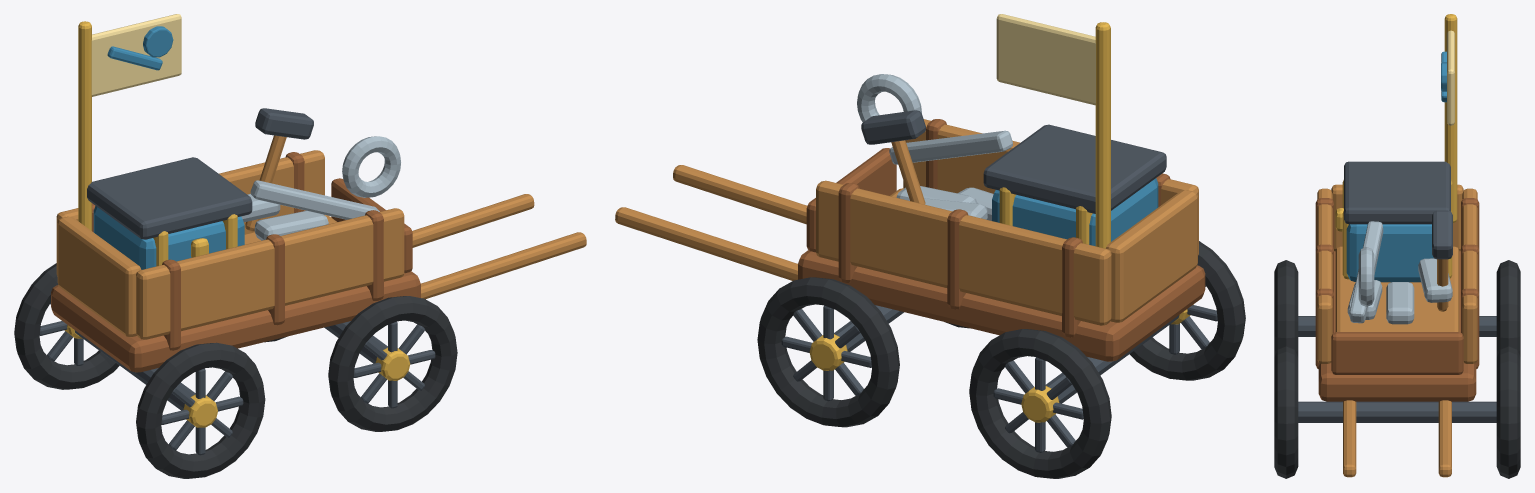
The model's file is luis_repair_cart.glb.
The picture shows the model from 3 angles, left to right: view 1: azimuth 30°, elevation 25°; view 2: azimuth 150°, elevation 25°; view 3: azimuth 270°, elevation 25°; orthographic projection. The views are drawn at different scales.
Parts seen in each view (by area): view 1: left-rail, deck, wheel-front-left, wheel-rear-left, repair-chest-lid, tailgate, wheel-rear-right, repair-flag, repair-chest, handle-left, repair-flag-pole, right-rail (+18 smaller); view 2: right-rail, deck, wheel-rear-right, wheel-front-right, repair-chest-lid, tailgate, repair-flag, wheel-rear-left, repair-chest, handle-right, repair-flag-pole, left-rail (+20 smaller); view 3: repair-chest-lid, front-brace, deck, deck-inlay, axle-front, repair-chest, wheel-front-left, wheel-front-right, left-rail, right-rail, wheel-rear-left, wheel-rear-right (+20 smaller).
Boxes of the visible parts, <box> form: left-rail: <box>136,208,404,339</box>; deck: <box>51,271,420,372</box>; wheel-front-left: <box>328,296,457,431</box>; wheel-rear-left: <box>136,342,265,478</box>; repair-chest-lid: <box>87,157,252,239</box>; tailgate: <box>57,216,141,337</box>; wheel-rear-right: <box>14,263,119,389</box>; repair-flag: <box>91,14,181,96</box>; repair-chest: <box>93,206,244,269</box>; handle-left: <box>421,232,586,299</box>; repair-flag-pole: <box>78,21,91,230</box>; right-rail: <box>56,150,324,276</box>; right-rail: <box>816,180,1111,325</box>; deck: <box>798,250,1205,361</box>; wheel-rear-right: <box>969,329,1111,478</box>; wheel-front-right: <box>757,277,899,427</box>; repair-chest-lid: <box>983,124,1166,213</box>; tailgate: <box>1106,190,1197,322</box>; repair-flag: <box>996,14,1095,105</box>; wheel-rear-left: <box>1129,241,1245,380</box>; repair-chest: <box>992,178,1158,246</box>; handle-right: <box>615,207,797,280</box>; repair-flag-pole: <box>1095,22,1110,248</box>; left-rail: <box>903,119,1198,255</box>; repair-chest-lid: <box>1344,161,1450,224</box>; front-brace: <box>1331,332,1463,374</box>; deck: <box>1318,251,1476,401</box>; deck-inlay: <box>1335,246,1459,331</box>; axle-front: <box>1298,401,1496,422</box>; repair-chest: <box>1346,224,1433,282</box>; wheel-front-left: <box>1274,345,1298,478</box>; wheel-front-right: <box>1496,345,1520,478</box>; left-rail: <box>1317,188,1332,363</box>; right-rail: <box>1462,188,1477,363</box>; wheel-rear-left: <box>1274,260,1298,357</box>; wheel-rear-right: <box>1496,260,1520,357</box>.
Bounding box in the file's own units: 3.61 × 2.82 × 1.75.
